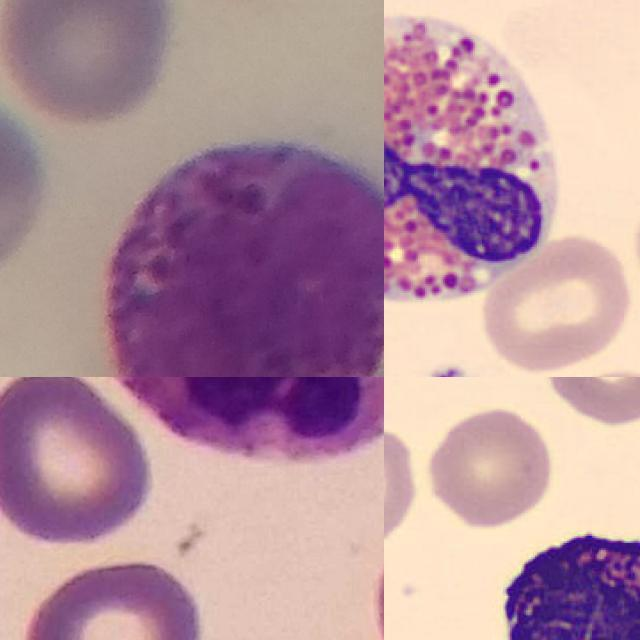Basophil: (104, 139, 384, 377), (480, 514, 640, 640)
Eosinophil: (384, 0, 567, 322)
Neutrophil: (94, 377, 384, 464)
Platelets: (423, 358, 474, 377)
RBC: (477, 231, 639, 376), (423, 404, 556, 532), (538, 377, 640, 430), (384, 425, 422, 550)
